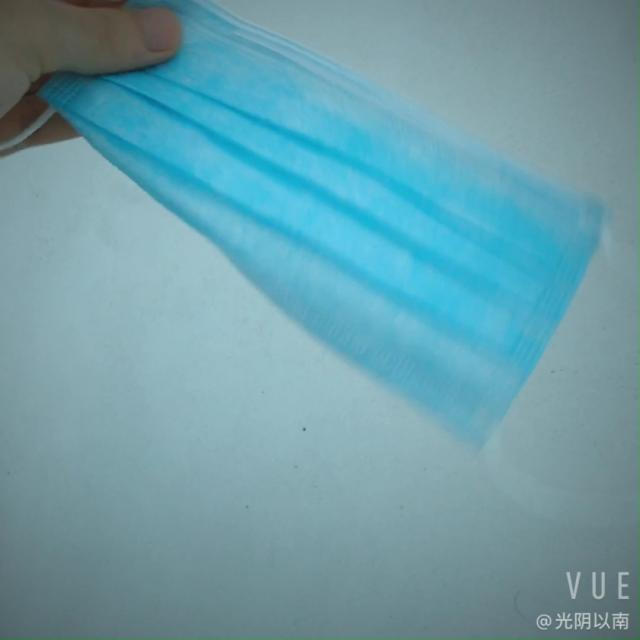face mask: (64, 12, 582, 455)
